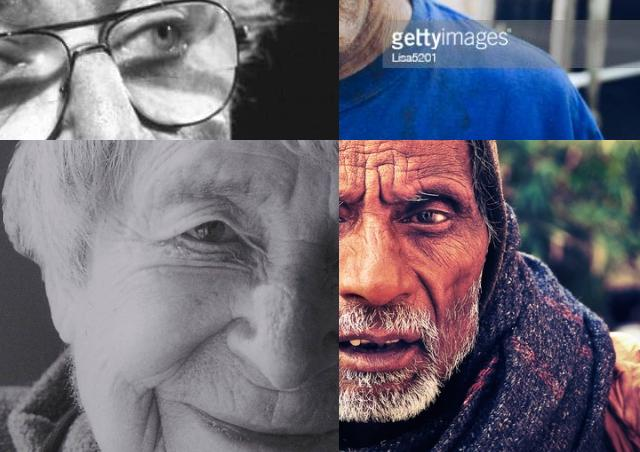crows_feet: (112, 220, 156, 248)
forehead: (413, 152, 443, 184), (379, 140, 405, 162), (339, 140, 371, 156), (413, 140, 440, 146)
frown_line: (358, 174, 388, 204), (320, 177, 338, 221), (285, 164, 301, 212), (287, 233, 323, 251)
gummy_smile: (184, 308, 236, 362), (416, 276, 442, 316)
sad_smile: (143, 385, 180, 452)
smoker_lines: (242, 377, 314, 397)
